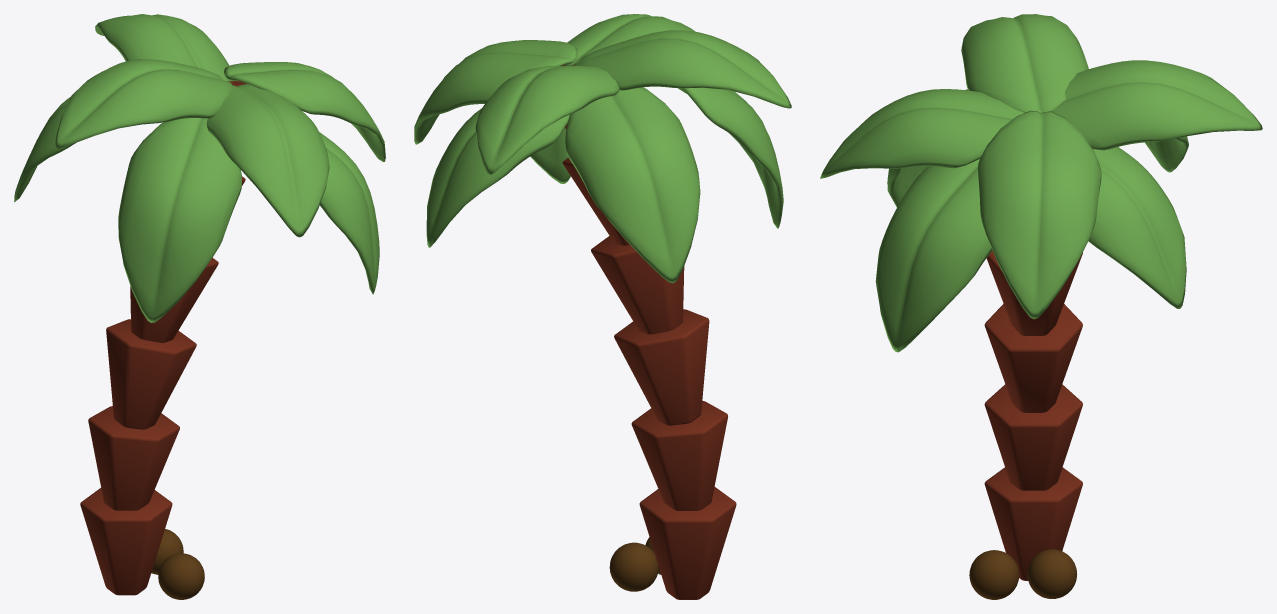
File: tree.fbx
The picture shows the model from 3 angles, left to right: view 1: azimuth 30°, elevation 25°; view 2: azimuth 150°, elevation 25°; view 3: azimuth 270°, elevation 25°; orthographic projection. The views are drawn at different scales.
Visible parts, largest first — view 1: tree; view 2: tree; view 3: tree.
Boxes of the visible parts, box(x1,y1,x2,y2) form: tree: box(14, 14, 385, 599); tree: box(414, 14, 791, 599); tree: box(820, 14, 1262, 599).
Size of the model in its own units: 548 by 805 by 576.
